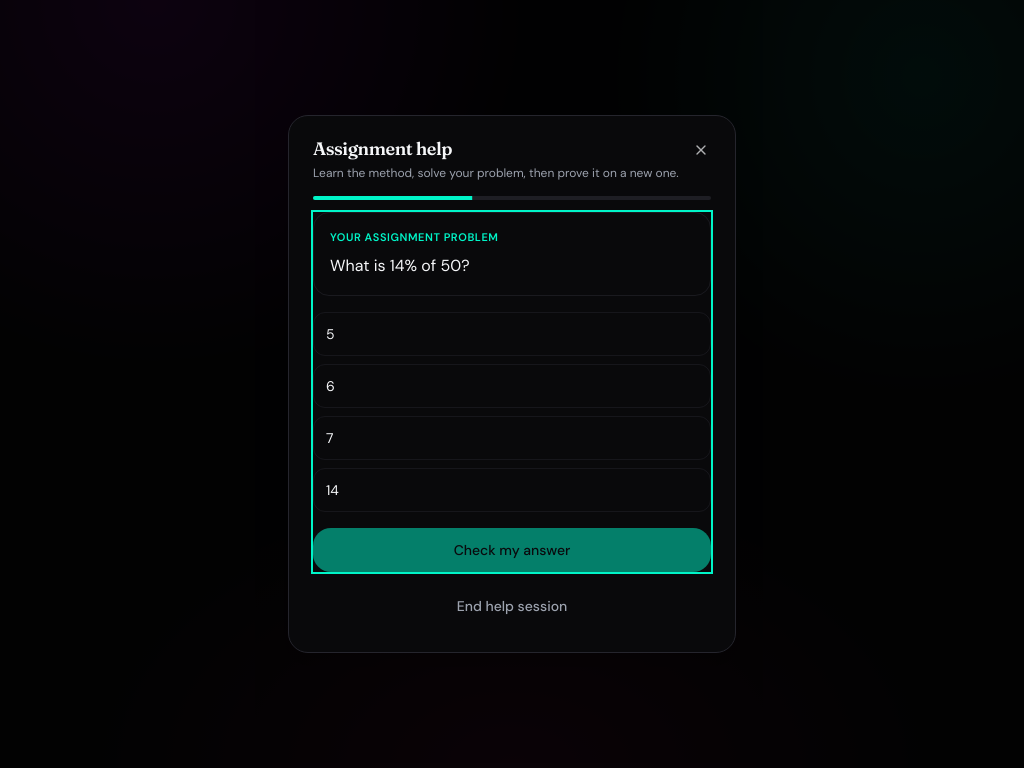
AssignmentTutorRunner › rebuilds a terminal challenge instead of replaying an attempt forever
This screenshot has width=1024, height=768.
Earlier steps of the test are not shown.
Later steps or results of the test are not shown.
Click the button "7" at [330, 438], box [313,416,711,460]
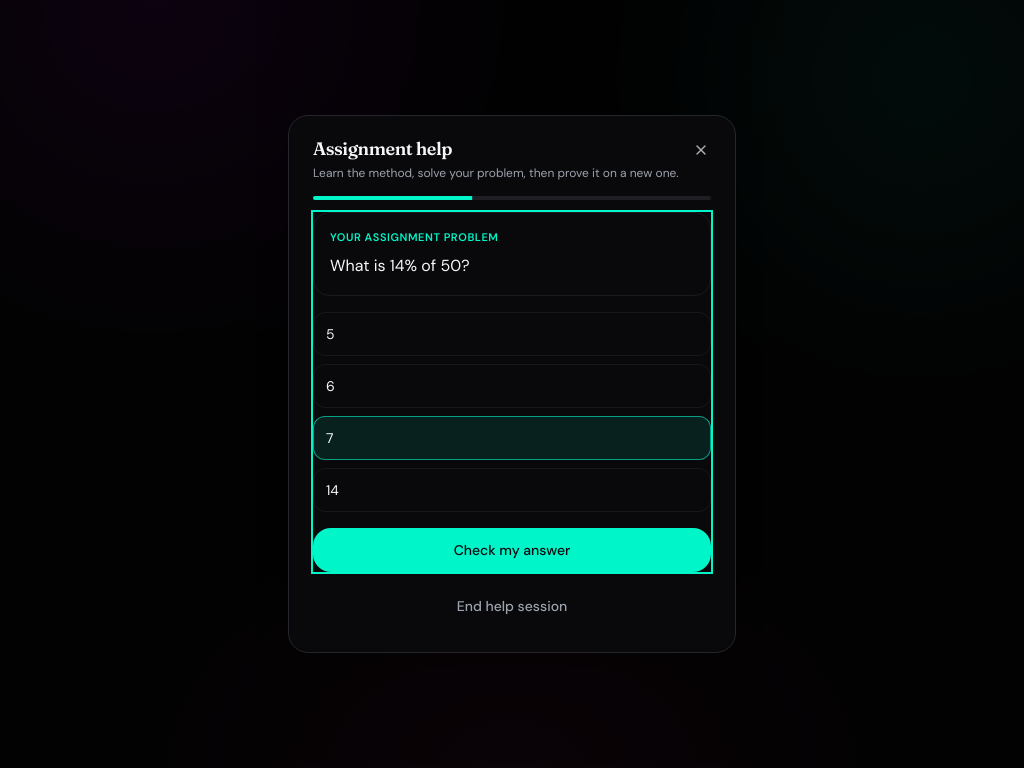
Click the button "Check my answer" at [512, 550], box [313,528,711,572]
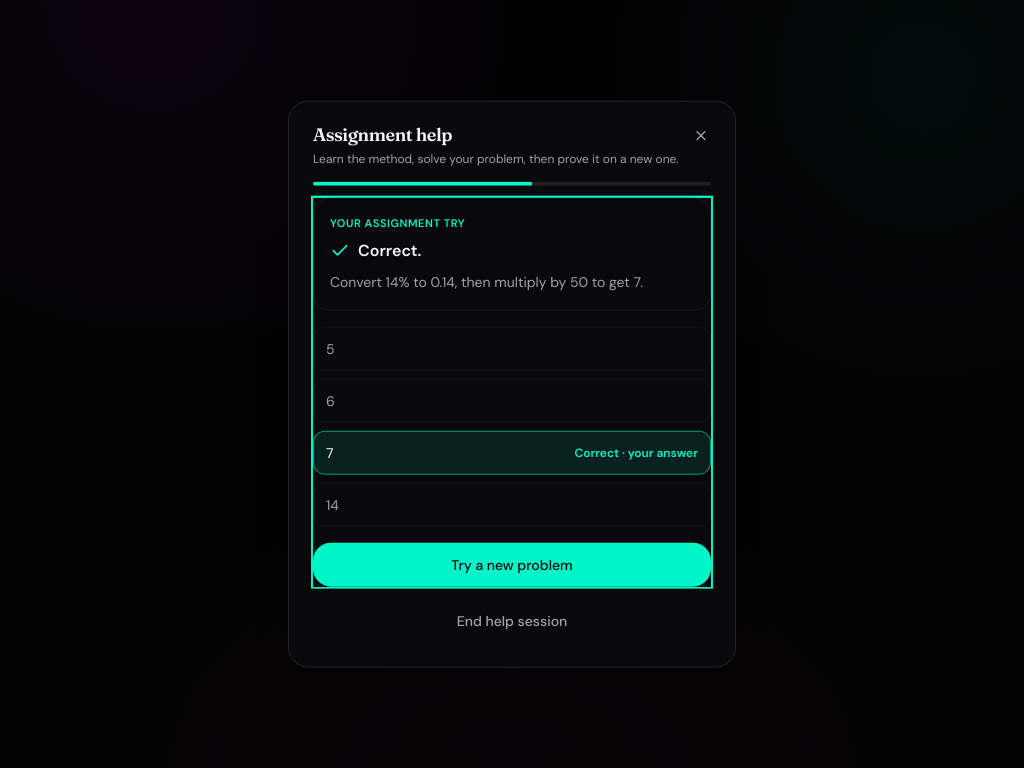
Click the button "Try a new problem" at [512, 564], box [313,542,711,586]
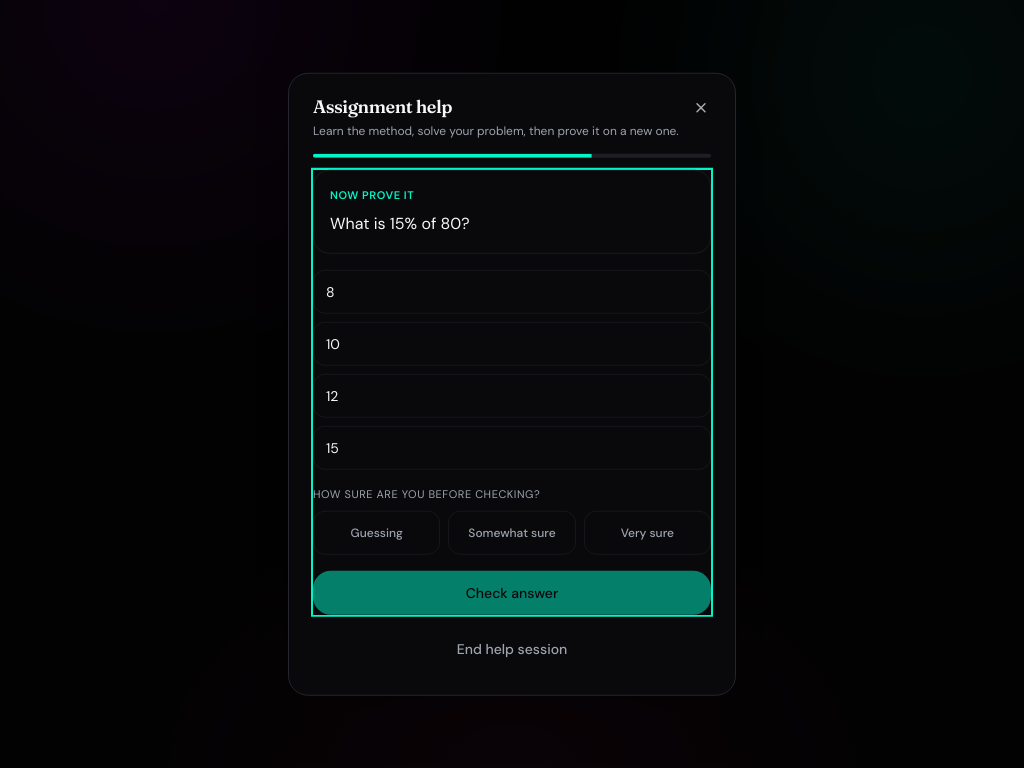
Click the button "12" at [332, 396], box [313,374,711,418]
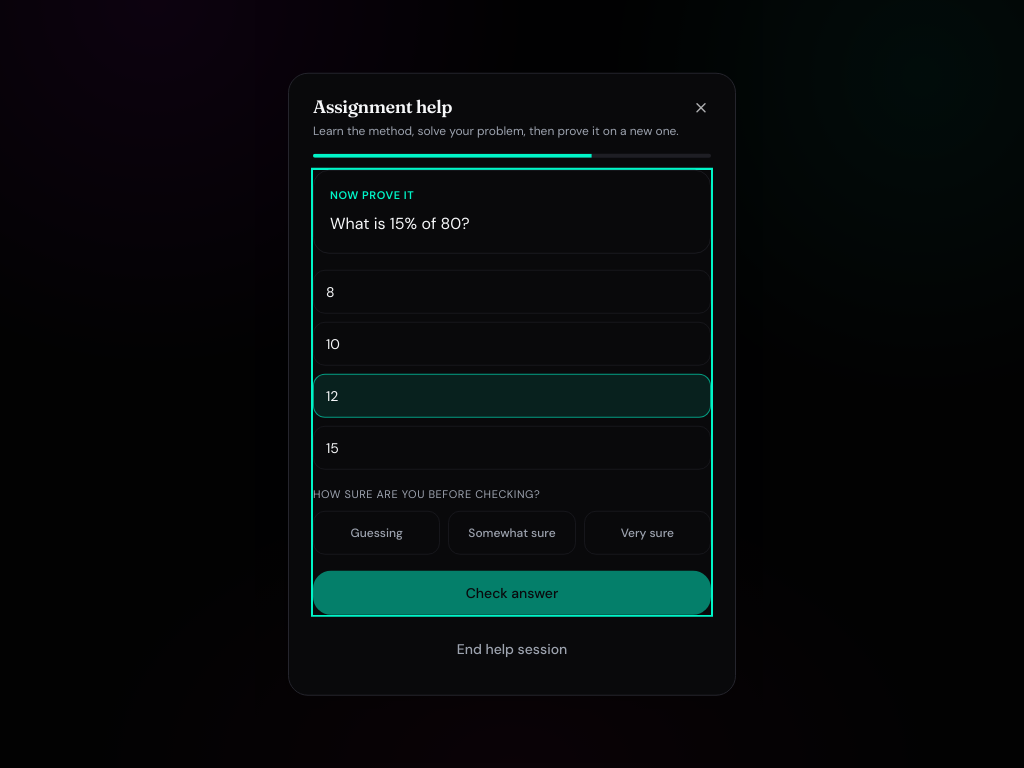
Click the button "Very sure" at [647, 532], box [584,510,711,554]
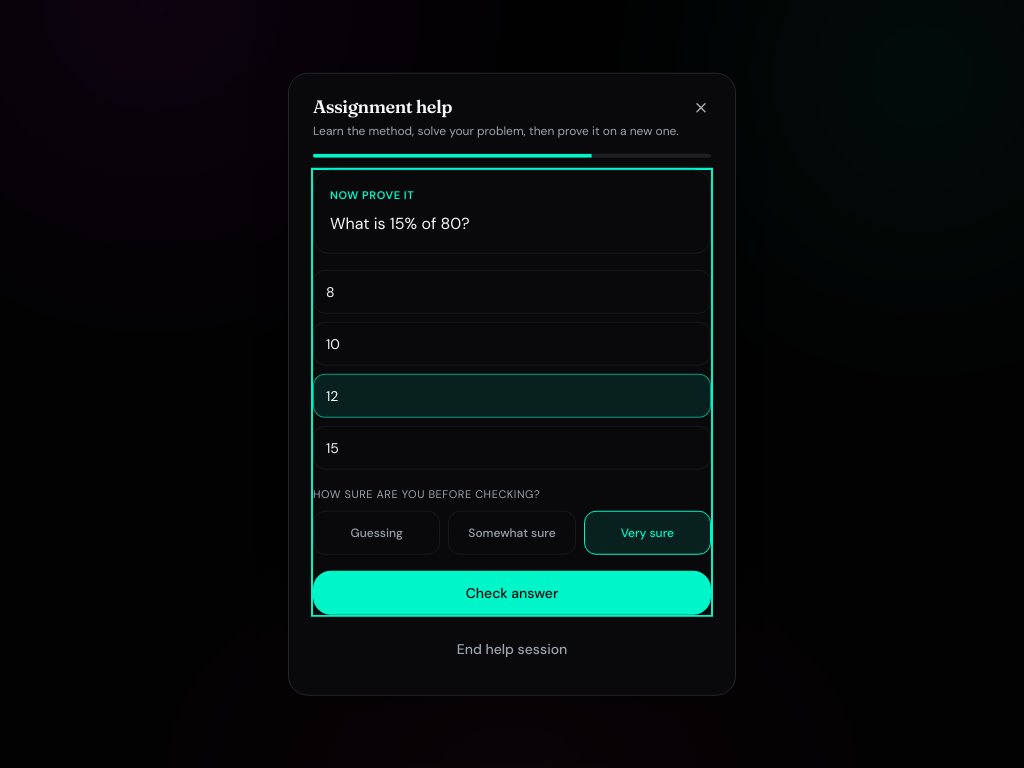
Click the button "Check answer" at [512, 592], box [313,570,711,614]
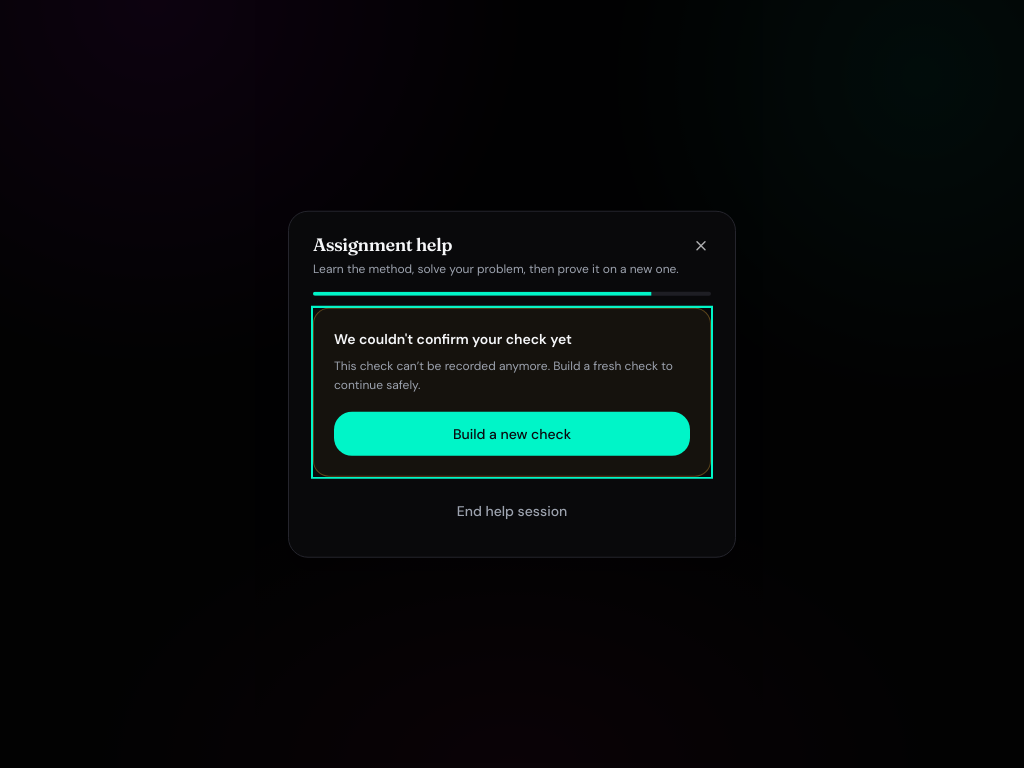
Expected: the message shows "Build a fresh check", [334,357,673,393]
